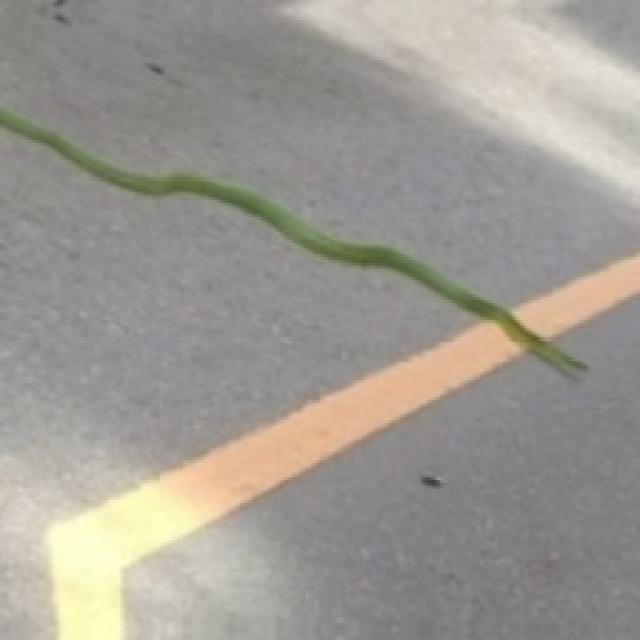red-tailed green ratsnake: (0, 106, 586, 374)
